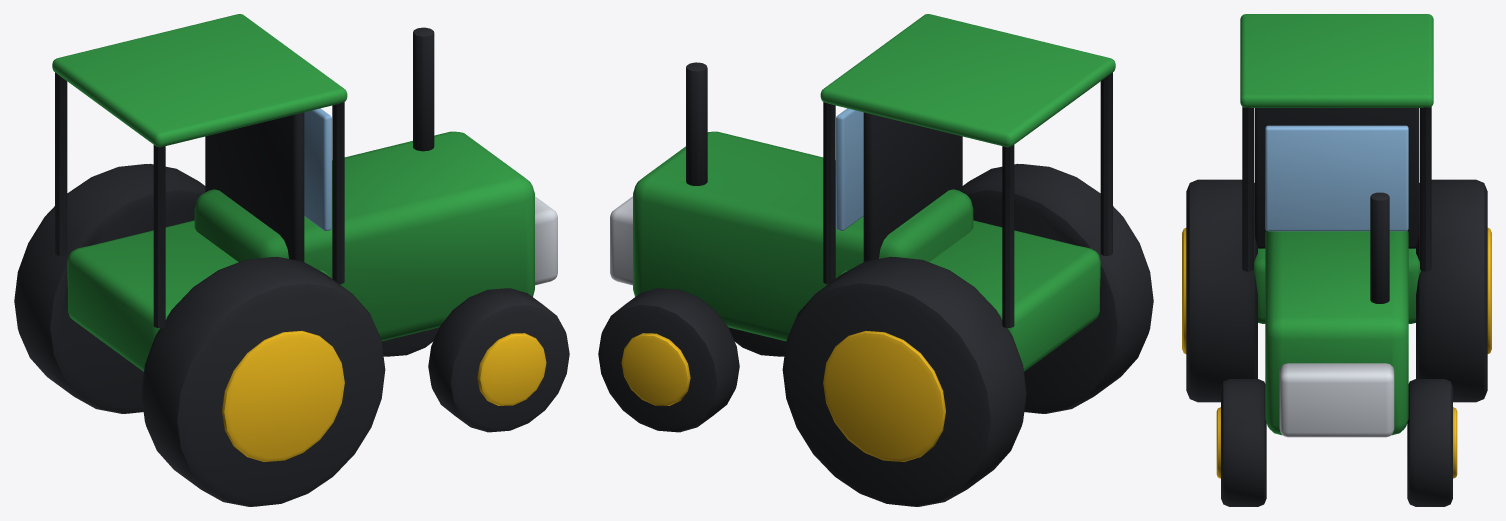
The model's file is tractor.glb.
3 renders of one model, left to right at view 1: azimuth 30°, elevation 25°; view 2: azimuth 150°, elevation 25°; view 3: azimuth 270°, elevation 25°, orthographic. The views are drawn at different scales.
Parts seen in each view (by area): view 1: tractor; view 2: tractor; view 3: tractor.
Boxes of the visible parts, x1=… form: tractor: x1=14, y1=14, x2=569, y2=506; tractor: x1=598, y1=14, x2=1153, y2=506; tractor: x1=1182, y1=14, x2=1491, y2=506.
Bounding box in the file's own units: 3.18 × 2.6 × 2.16.
